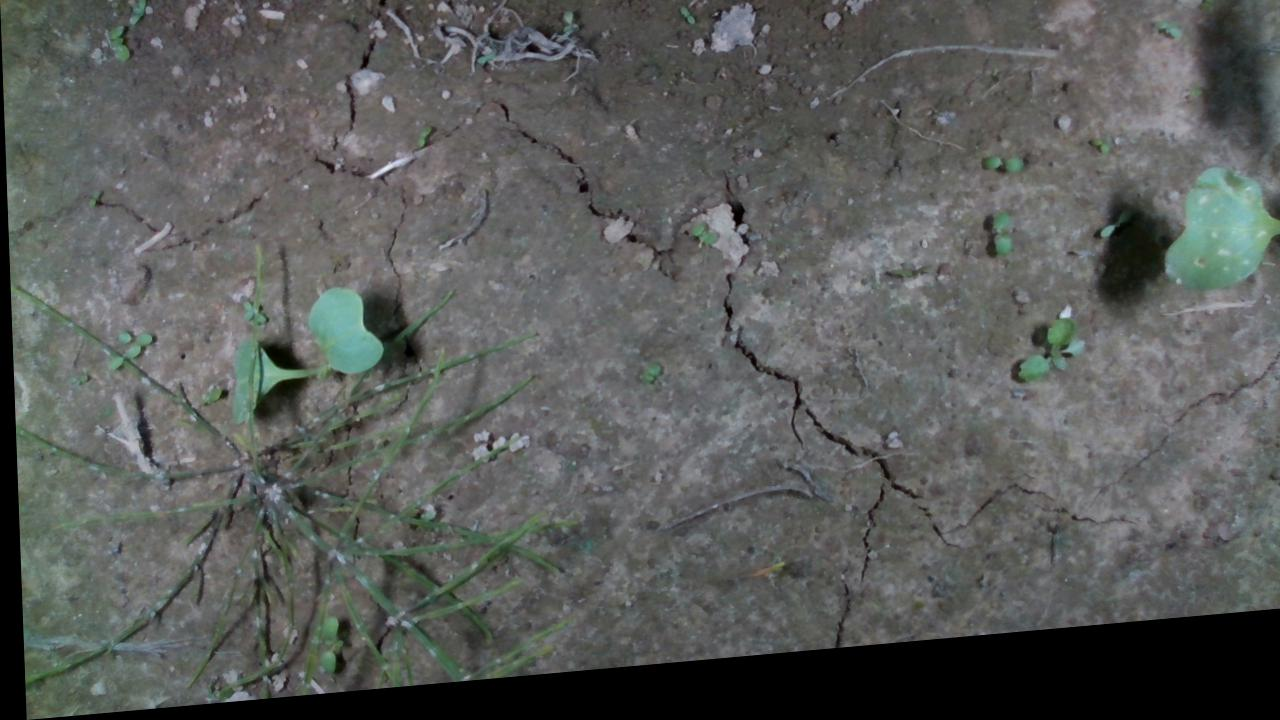weed: (977, 169, 1024, 197), (1094, 227, 1132, 259), (987, 225, 1009, 276), (684, 231, 718, 261), (1147, 36, 1181, 64), (106, 24, 129, 65), (634, 370, 659, 398), (126, 0, 148, 27), (411, 129, 430, 157), (1086, 155, 1108, 177), (677, 16, 695, 39)
